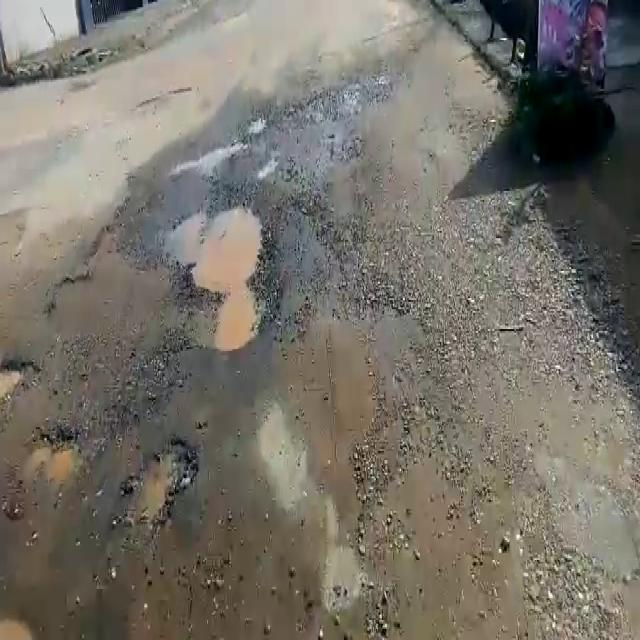Pothole: (164, 203, 266, 351), (129, 433, 197, 527), (1, 352, 39, 413)
